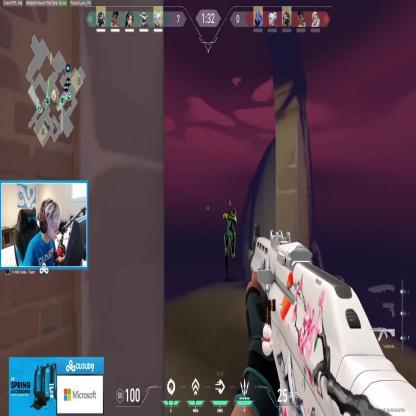enemy: (223, 196, 238, 278)
enemy_head: (228, 199, 232, 211)
